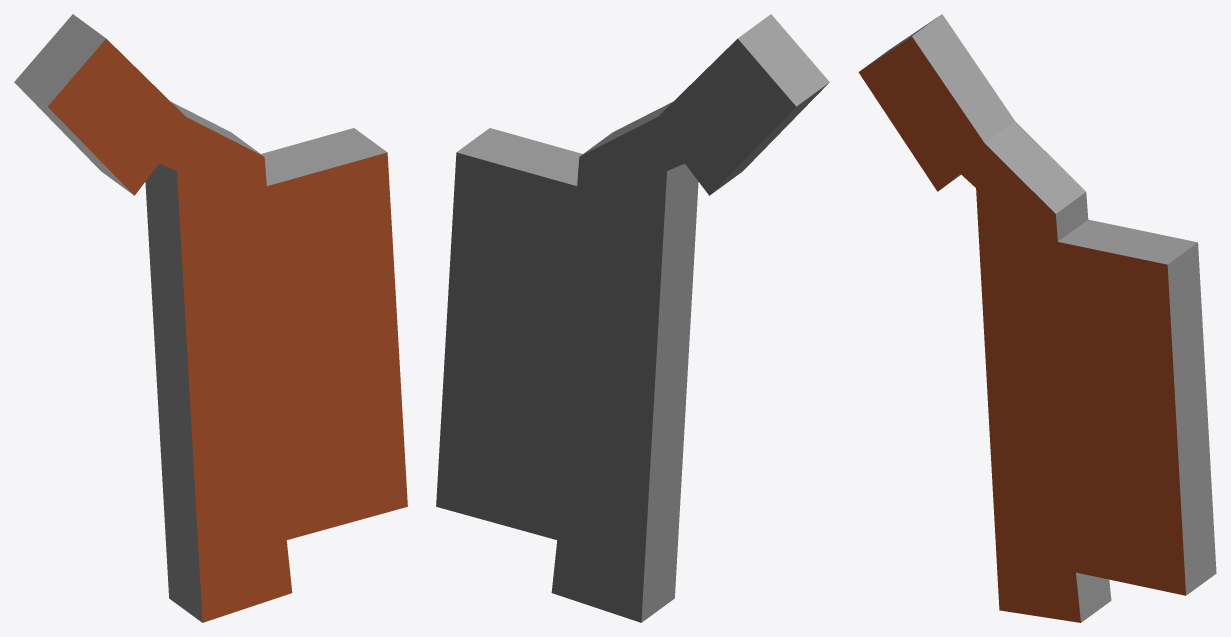
Rendered from construction_6209_assumed_A_Junta_de_freguesia_h6m.obj.
3 views of the same model, side by side, from view 1: azimuth 30°, elevation 25°; view 2: azimuth 150°, elevation 25°; view 3: azimuth 330°, elevation 25° (orthographic). The views are drawn at different scales.
Visible parts, largest first — view 1: construction_6209_assumed_A_Junta_de_freguesia; view 2: construction_6209_assumed_A_Junta_de_freguesia; view 3: construction_6209_assumed_A_Junta_de_freguesia.
Boxes of the visible parts, box(x1,y1,x2,y2) form: construction_6209_assumed_A_Junta_de_freguesia: box(14, 14, 407, 622); construction_6209_assumed_A_Junta_de_freguesia: box(436, 14, 829, 622); construction_6209_assumed_A_Junta_de_freguesia: box(858, 14, 1216, 622).
Bounding box in the file's own units: 37.28 × 60.1 × 6.
